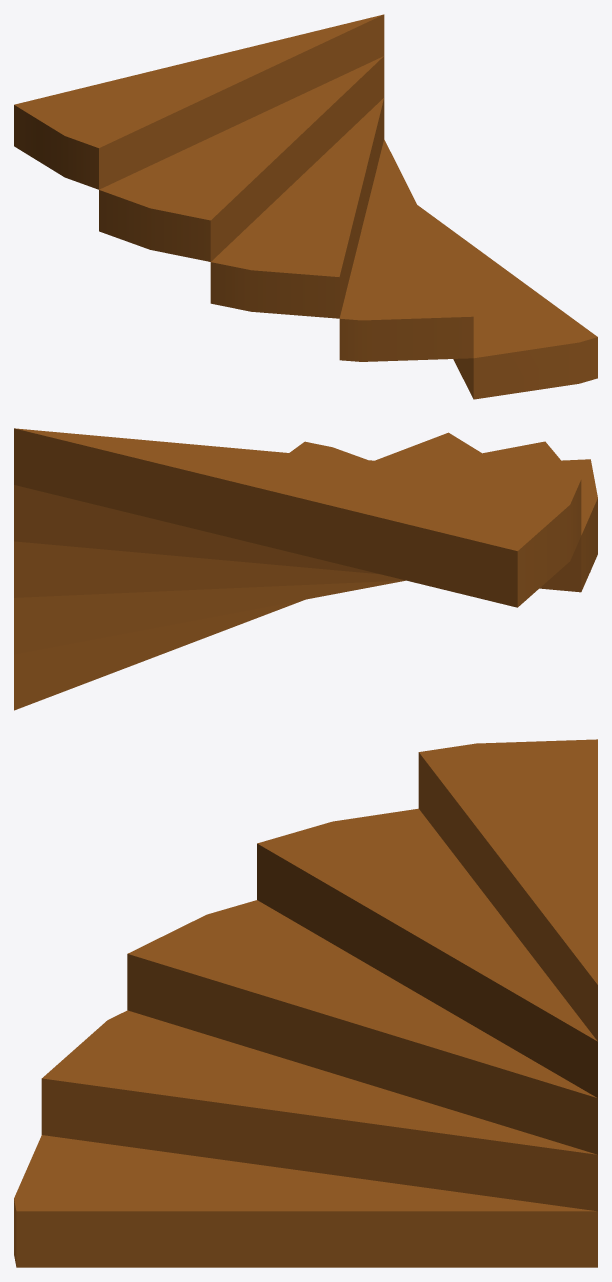
Rendered from Dungeon_Stairs_Small_Quarter_Timber_01.fbx.
3 renders of one model, top to bottom at view 1: azimuth 30°, elevation 25°; view 2: azimuth 150°, elevation 25°; view 3: azimuth 270°, elevation 25°, orthographic. The views are drawn at different scales.
Visible parts, largest first — view 1: Model; view 2: Model; view 3: Model.
Boxes of the visible parts, left/top/right/bottom form: Model: left=14, top=14, right=597, bottom=399; Model: left=14, top=428, right=597, bottom=710; Model: left=14, top=739, right=597, bottom=1267.
Size of the model in its own units: 148 by 79.15 by 148.
